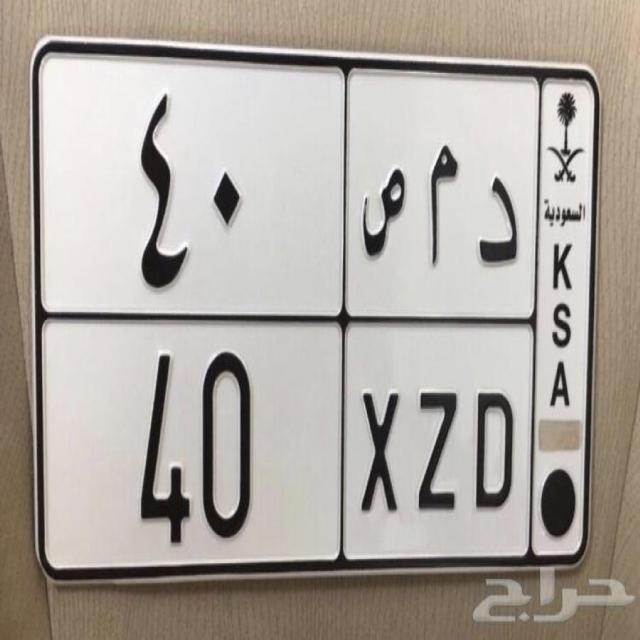license_plate: (35, 309, 538, 576)
